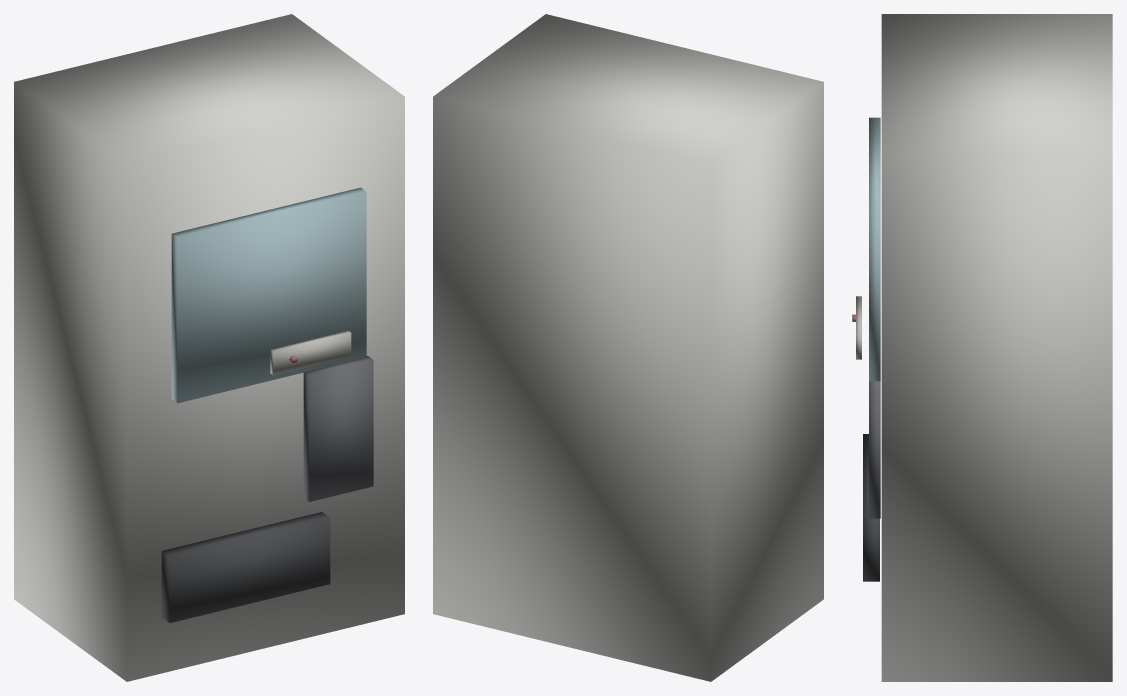
File: motel_ice_machine__wide.glb
3 views of the same model, side by side, from view 1: azimuth 30°, elevation 25°; view 2: azimuth 150°, elevation 25°; view 3: azimuth 270°, elevation 25° (orthographic). The views are drawn at different scales.
Visible parts, largest first — view 1: world; view 2: world; view 3: world.
Part boxes in pixels (bbox=[...]): world: bbox=[14, 14, 404, 681]; world: bbox=[433, 14, 823, 681]; world: bbox=[852, 14, 1112, 681].
Bounding box in the file's own units: 0.9672 × 1.72 × 0.766.
